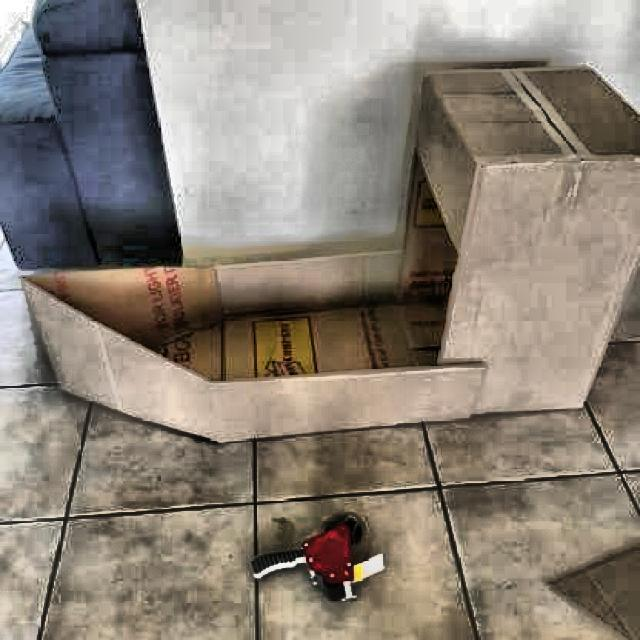Cardbox: (20, 30, 640, 438)
